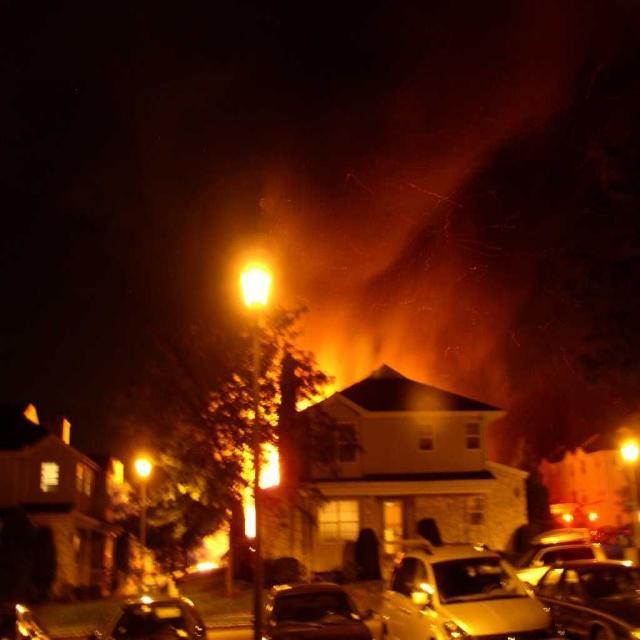Fire: (311, 341, 438, 402), (240, 260, 286, 324)
